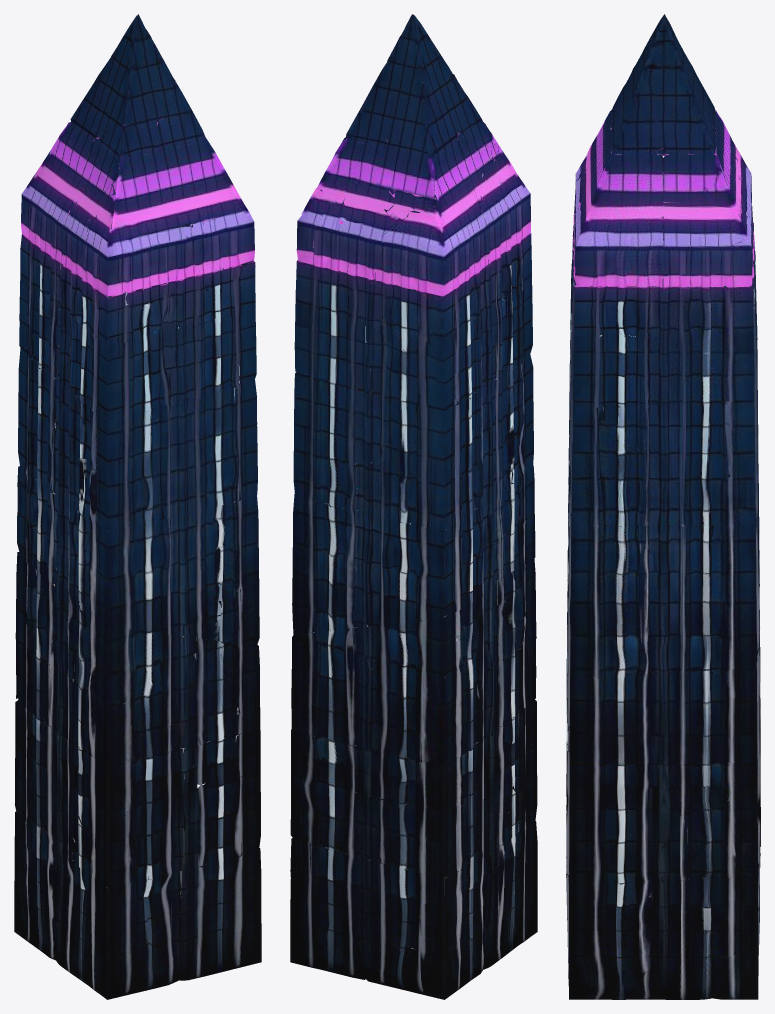
Rendered from earth_tower_neon.glb.
3 views of the same model, side by side, from view 1: azimuth 30°, elevation 25°; view 2: azimuth 150°, elevation 25°; view 3: azimuth 270°, elevation 25° (orthographic).
Parts seen in each view (by area): view 1: earth_tower_neon; view 2: earth_tower_neon; view 3: earth_tower_neon.
Boxes of the visible parts, x1=… form: earth_tower_neon: x1=14, y1=14, x2=261, y2=999; earth_tower_neon: x1=290, y1=14, x2=537, y2=999; earth_tower_neon: x1=566, y1=14, x2=760, y2=999.
Bounding box in the file's own units: 40.27 × 225 × 41.86.
1 material, 1 textured.
